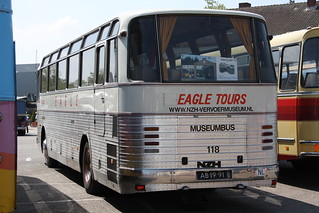bus: (35, 9, 277, 195)
